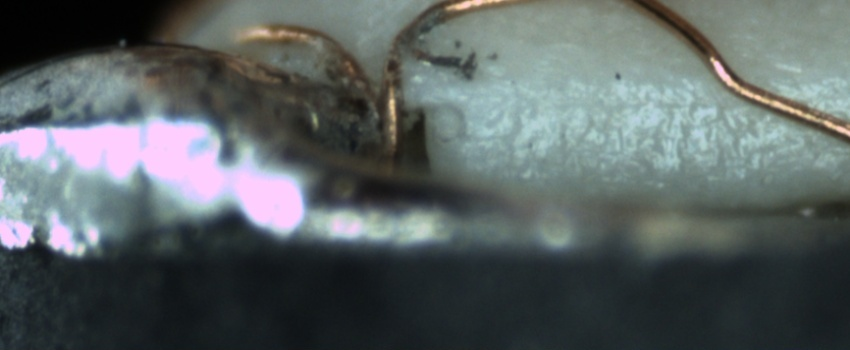DL: (526, 79, 759, 135)
